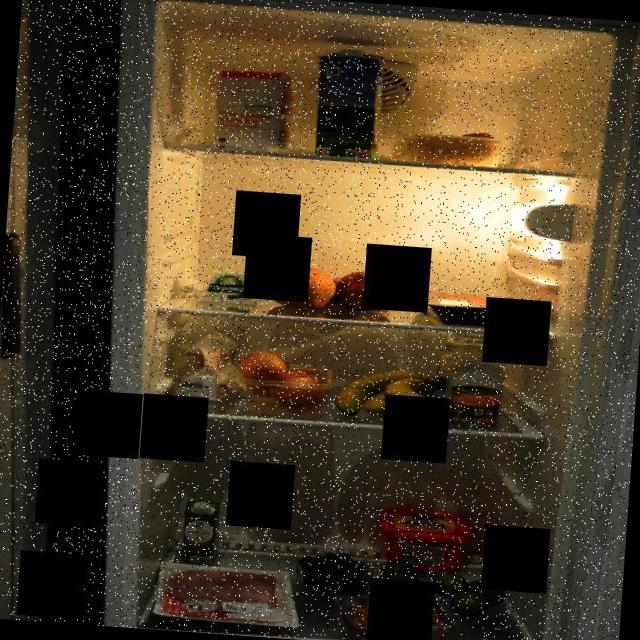Carne cerdo: (151, 558, 304, 629)
Carne vacuno: (400, 287, 548, 331)
Cebolla: (236, 346, 336, 417)
Gambas/Langostinos: (340, 599, 447, 640)
Leche: (304, 42, 383, 168)
Mantequilla: (374, 504, 474, 574)
Patata: (401, 125, 508, 172)
Plátano: (334, 365, 461, 427)
Queso: (196, 268, 260, 306)
blueberries: (287, 542, 380, 598)
corn: (448, 384, 502, 429)
flour: (166, 328, 250, 407)
heavy_cream: (181, 498, 221, 564)
sugar: (214, 67, 296, 153), (434, 329, 506, 419)
sweet_potato: (258, 255, 402, 321)
